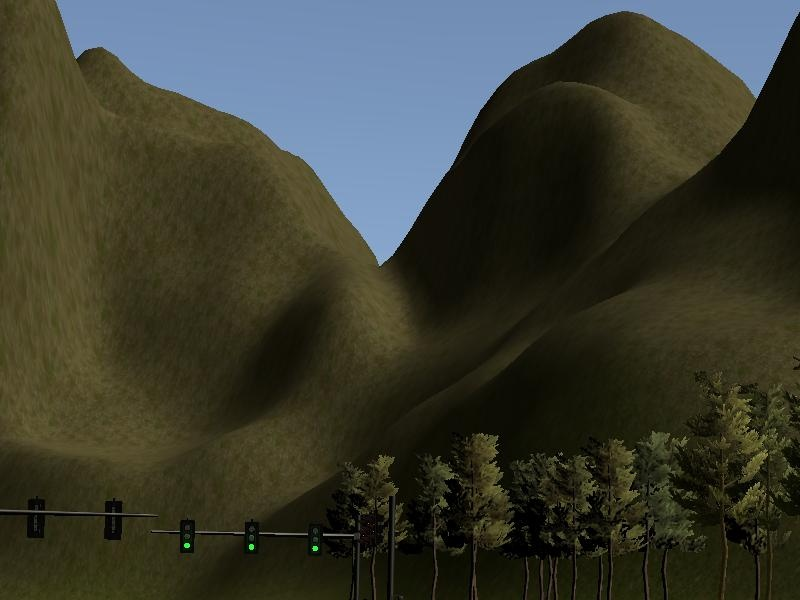green: (305, 522, 324, 557), (243, 520, 260, 554), (179, 519, 195, 554)
